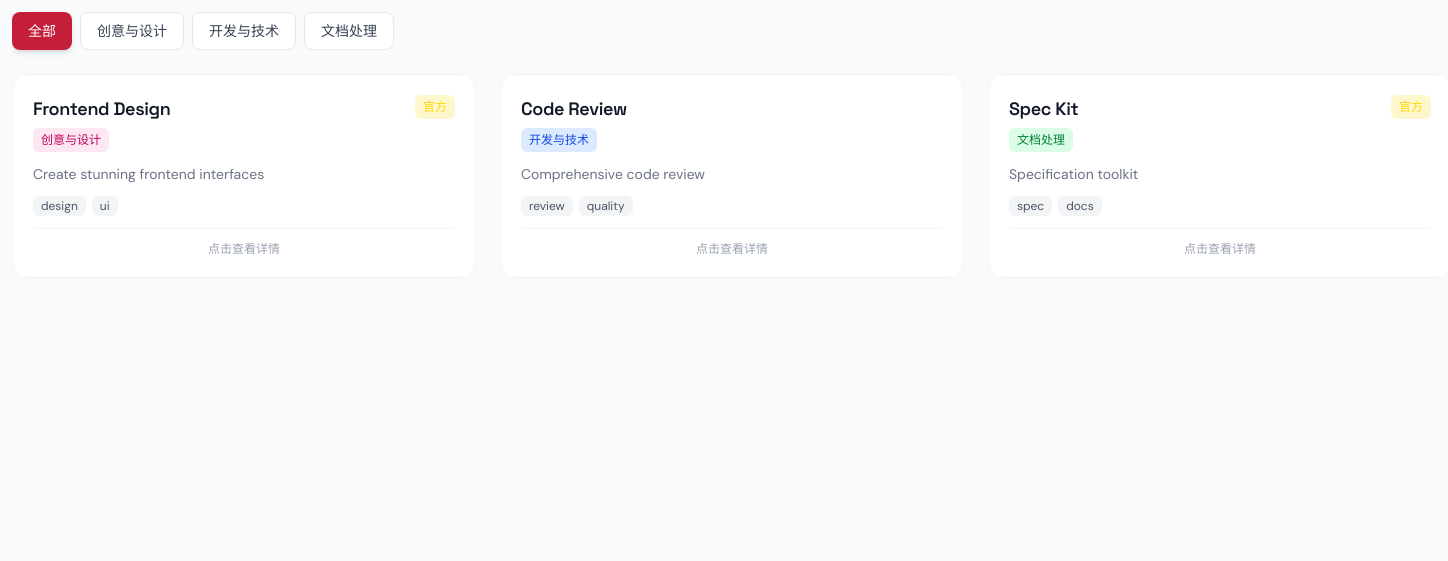
Test: SkillCardGrid › expands card details on click
Check: the text "Landing pages" is not shown
Click the heading "Frontend Design" at (102,108), box [33,97,170,120]
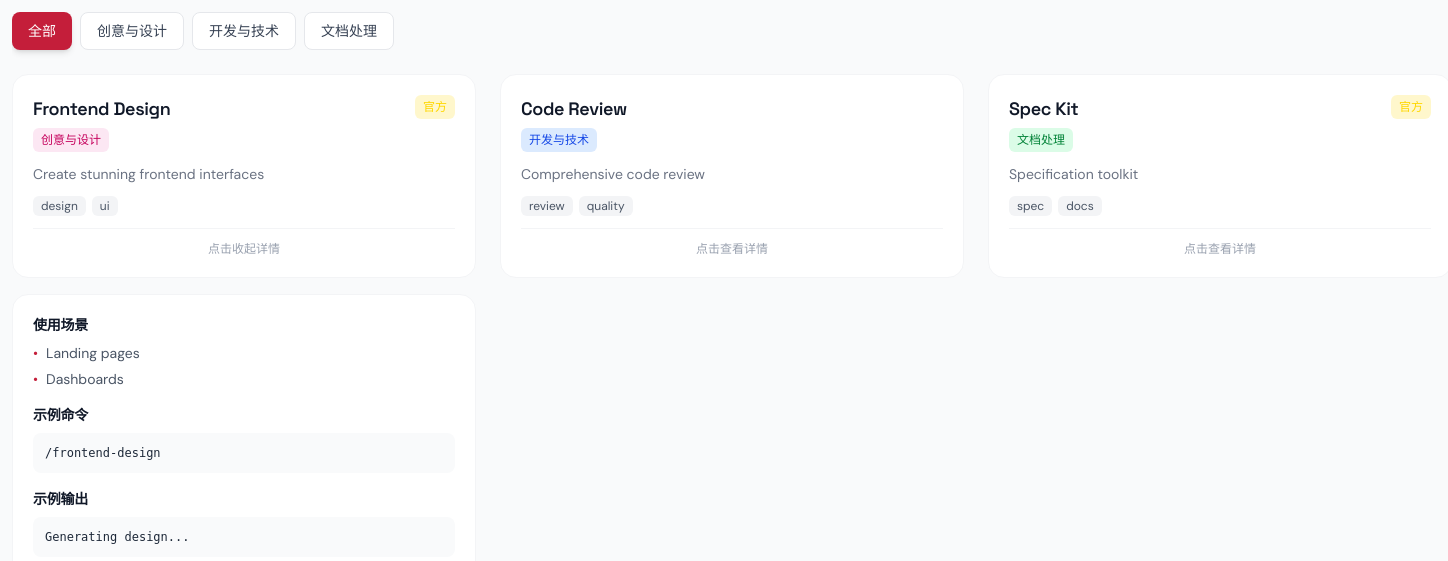
Check: the text "Landing pages" is shown, box [46,343,140,363]
Check: the text "/frontend-design" is shown, box [33,433,455,473]
